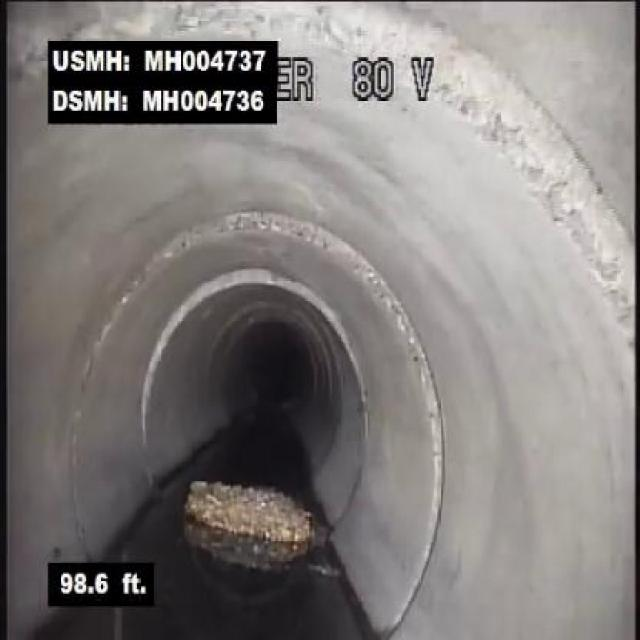Obstacle: (180, 450, 328, 576)
